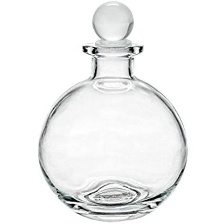bottle: (22, 34, 191, 223)
